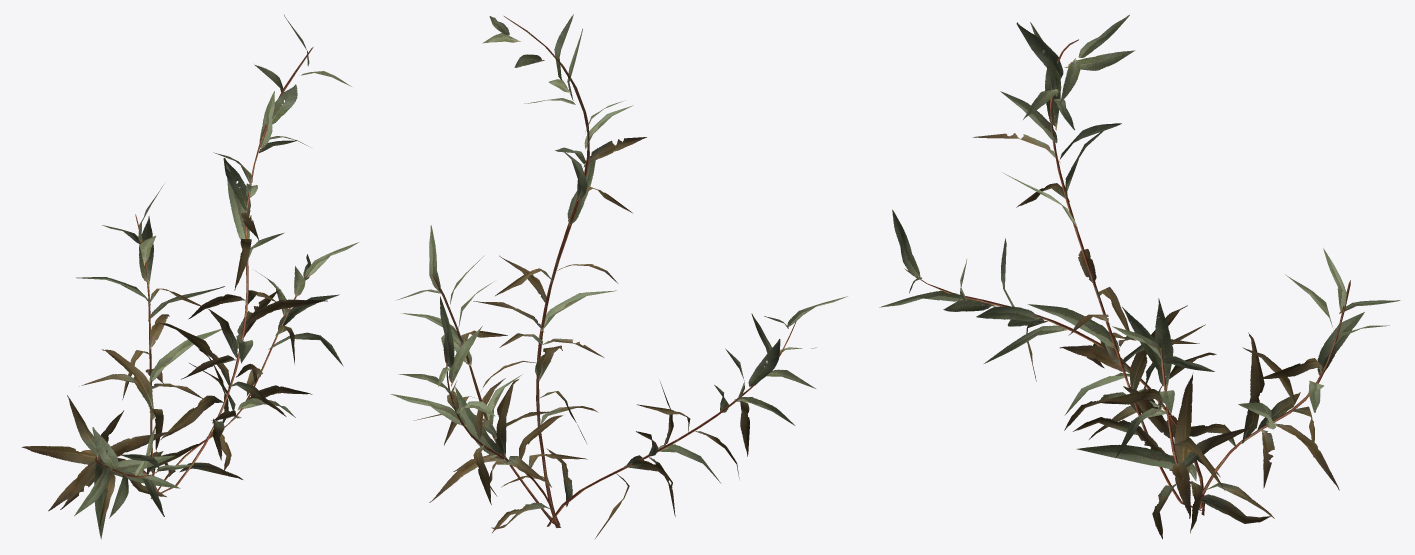
3 views of the same model, side by side, from view 1: azimuth 30°, elevation 25°; view 2: azimuth 150°, elevation 25°; view 3: azimuth 270°, elevation 25° (orthographic). The views are drawn at different scales.
Visible parts, largest first — view 1: shrub_02__b_lod1; view 2: shrub_02__b_lod1; view 3: shrub_02__b_lod1.
Boxes of the visible parts, x1,y1,x2,y2 form: shrub_02__b_lod1: [21, 15, 359, 539]; shrub_02__b_lod1: [390, 14, 847, 539]; shrub_02__b_lod1: [879, 14, 1400, 539].
Size of the model in its own units: 1.13 by 1.51 by 1.29.
1 material, 1 textured.
